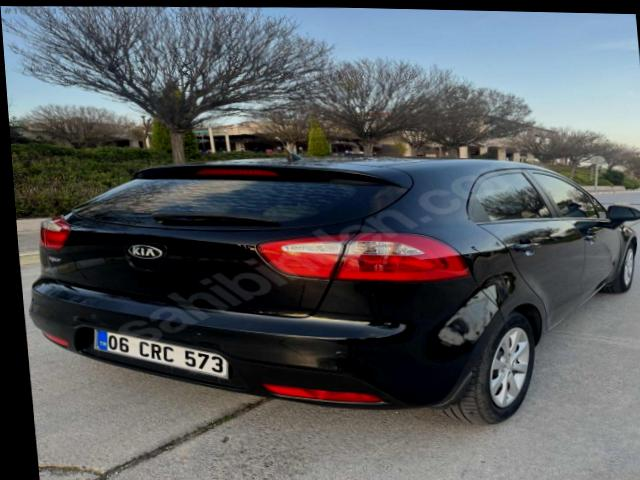plaka: (93, 330, 228, 379)
